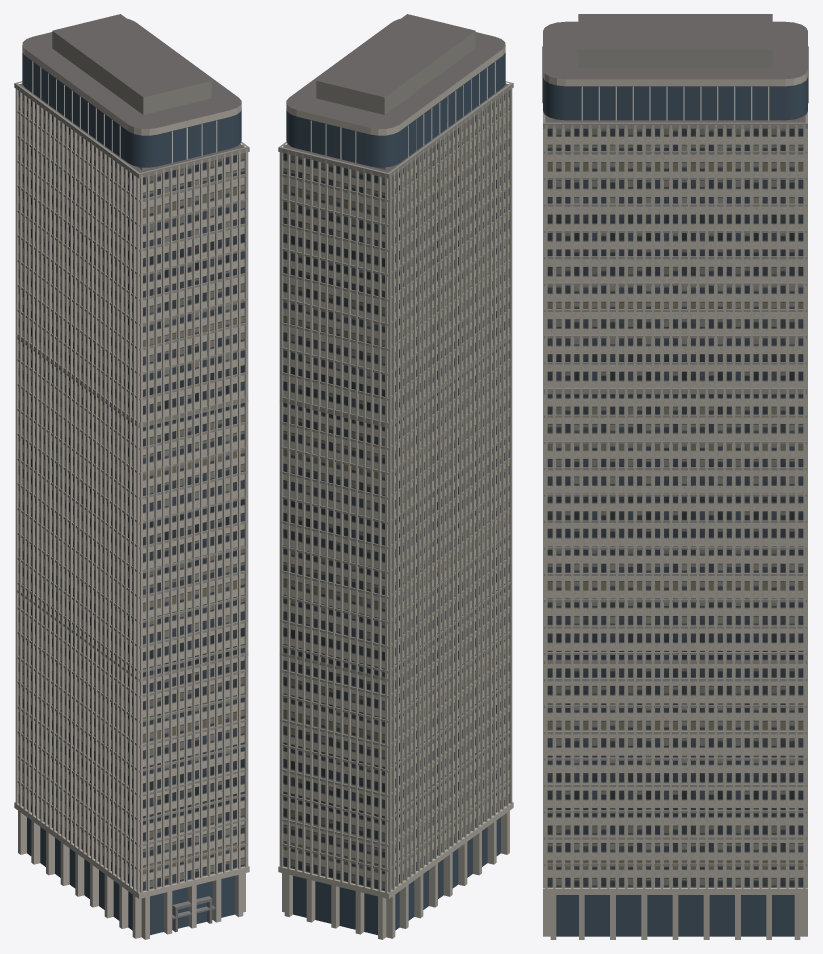
Rendered from hilton_union_square.glb.
3 views of the same model, side by side, from view 1: azimuth 30°, elevation 25°; view 2: azimuth 150°, elevation 25°; view 3: azimuth 270°, elevation 25° (orthographic). The views are drawn at different scales.
Visible parts, largest first — view 1: hilton_union_square; view 2: hilton_union_square; view 3: hilton_union_square.
Part boxes in pixels (x1,y1,x2,y2): hilton_union_square: [14, 14, 249, 939]; hilton_union_square: [278, 14, 513, 939]; hilton_union_square: [542, 14, 808, 939].
Bounding box in the file's own units: 21.24 × 150 × 41.24.
Materials: 2 (2 with a texture image).
